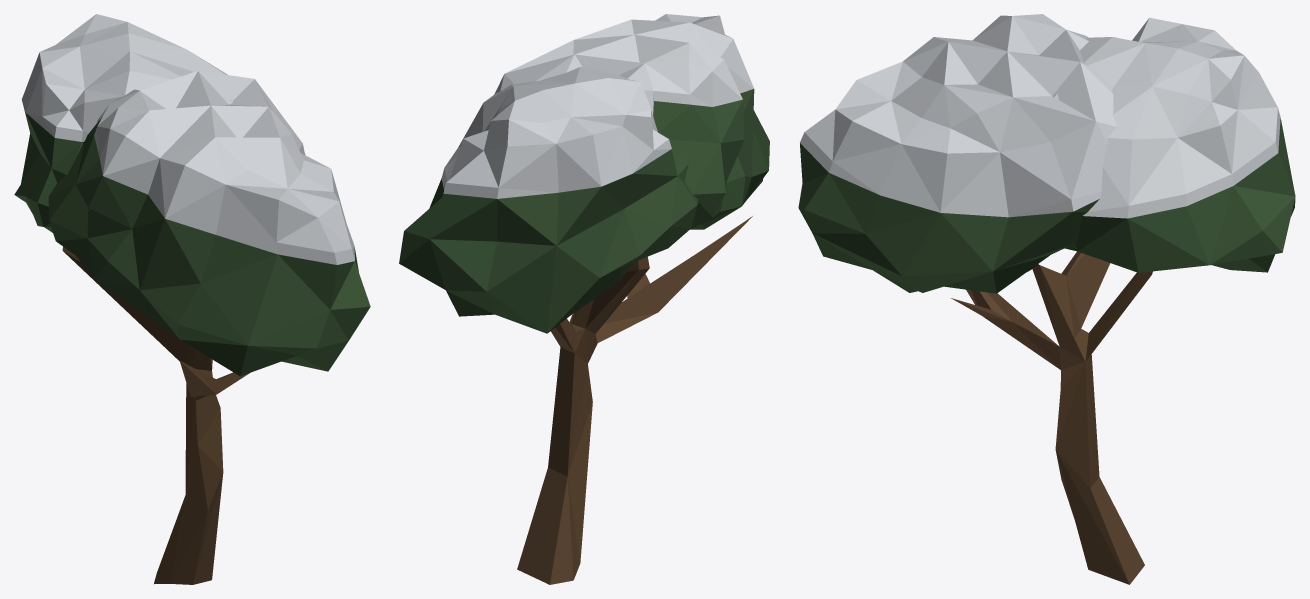
File: tree_winter_3.glb
3 renders of one model, left to right at view 1: azimuth 30°, elevation 25°; view 2: azimuth 150°, elevation 25°; view 3: azimuth 270°, elevation 25°, orthographic. The views are drawn at different scales.
Parts seen in each view (by area): view 1: lod0; view 2: lod0; view 3: lod0.
Boxes of the visible parts, x1,y1,x2,y2 form: lod0: (14, 14, 370, 584); lod0: (399, 14, 769, 584); lod0: (798, 14, 1295, 584).
Size of what is drawn, in the model's own units: 3.42 by 6.78 by 5.95.
